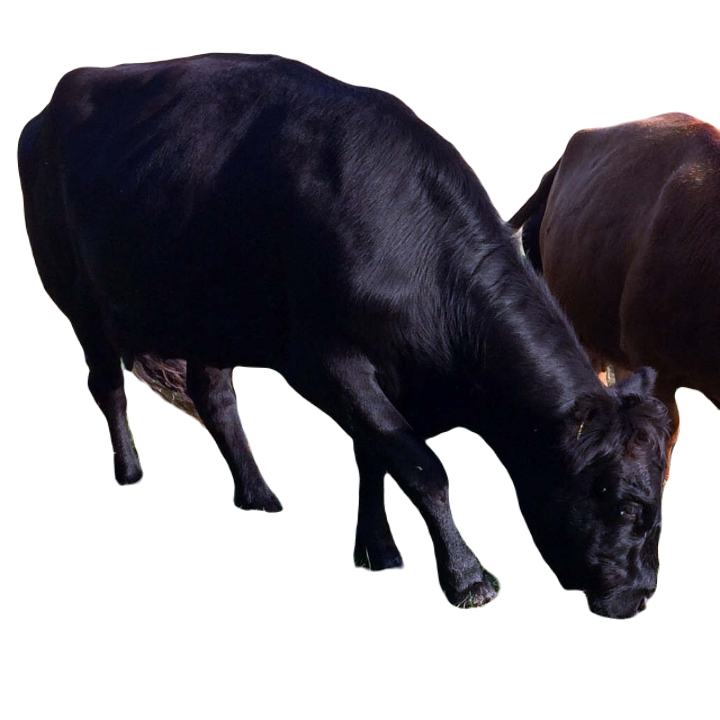Cow: (16, 50, 670, 617), (6, 41, 13, 48)
